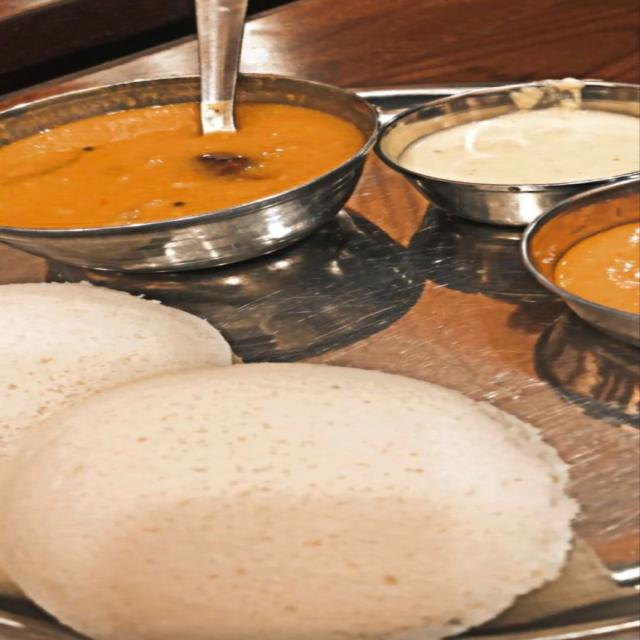chutney: (406, 97, 640, 186)
idly: (25, 354, 590, 640), (0, 281, 238, 477)
sambar: (1, 101, 367, 235)
